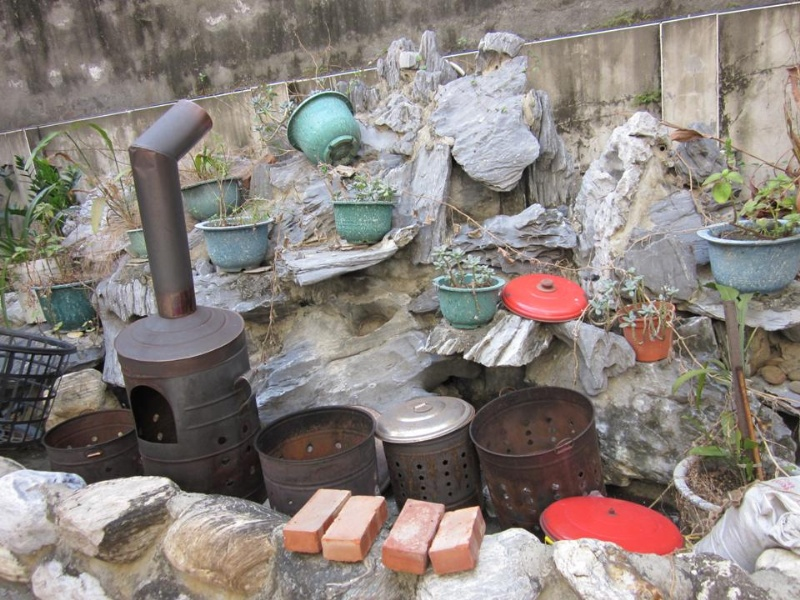bucket: (108, 300, 270, 508), (466, 381, 610, 538), (249, 397, 378, 519), (371, 392, 481, 526), (34, 408, 145, 489)
plate: (534, 490, 688, 567), (497, 270, 591, 328)
